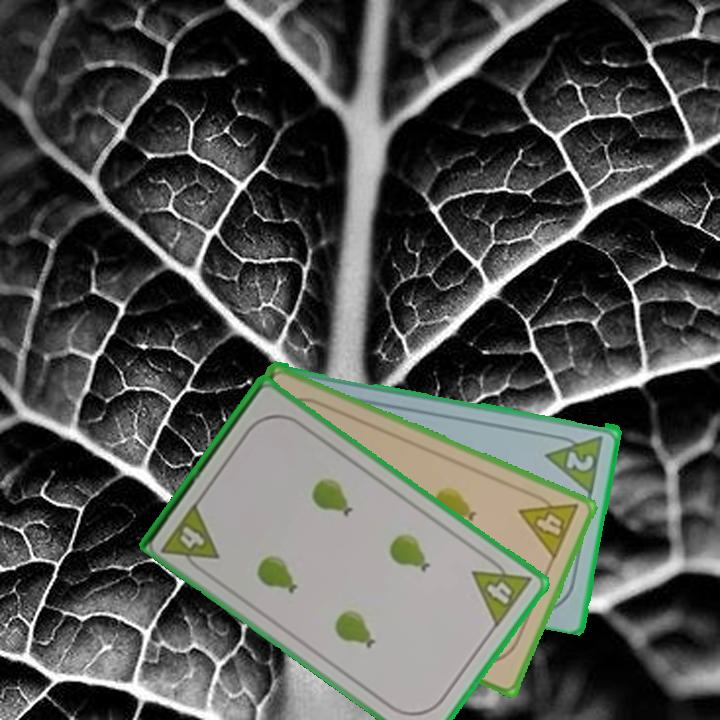2p: (563, 446, 597, 474)
4p: (468, 550, 535, 630), (515, 486, 582, 563), (158, 498, 222, 577)
